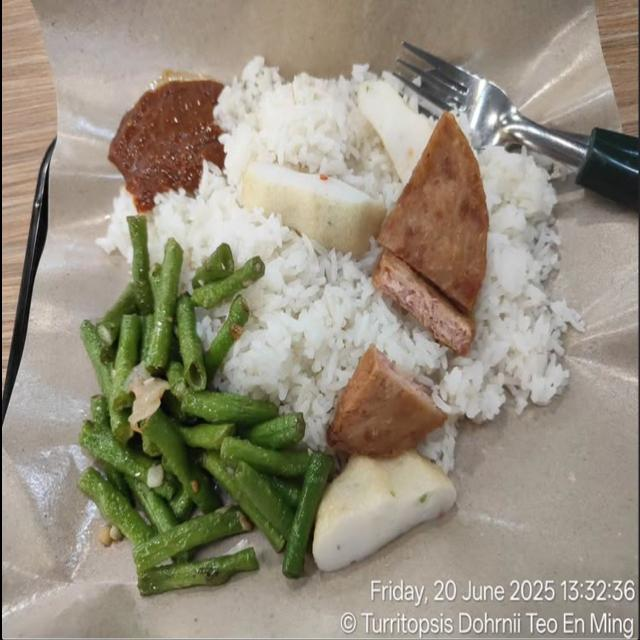Fish: (312, 451, 456, 571), (240, 162, 386, 259), (359, 80, 436, 191)
Green veg: (78, 217, 333, 595)
Pork: (372, 112, 488, 354), (327, 345, 448, 457)
Rice: (148, 59, 584, 448), (98, 190, 136, 261), (420, 420, 456, 472)
